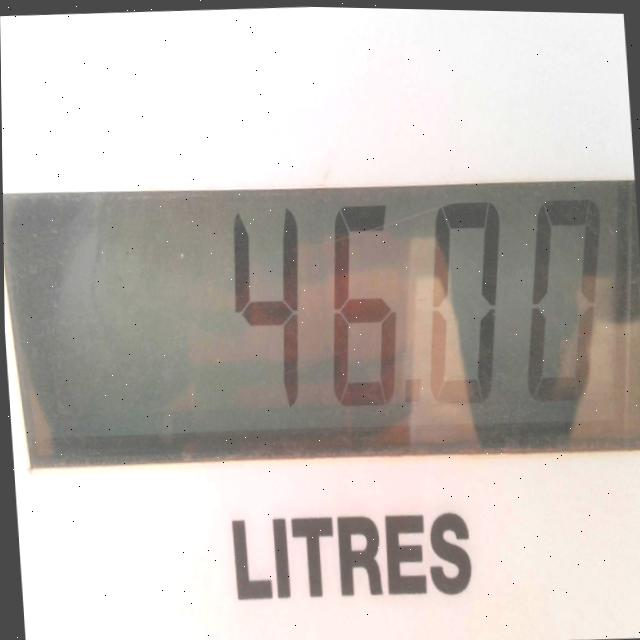.: (392, 359, 425, 416)
0: (411, 194, 521, 419), (511, 187, 611, 414)
4: (220, 198, 324, 417)
6: (316, 187, 409, 426)
